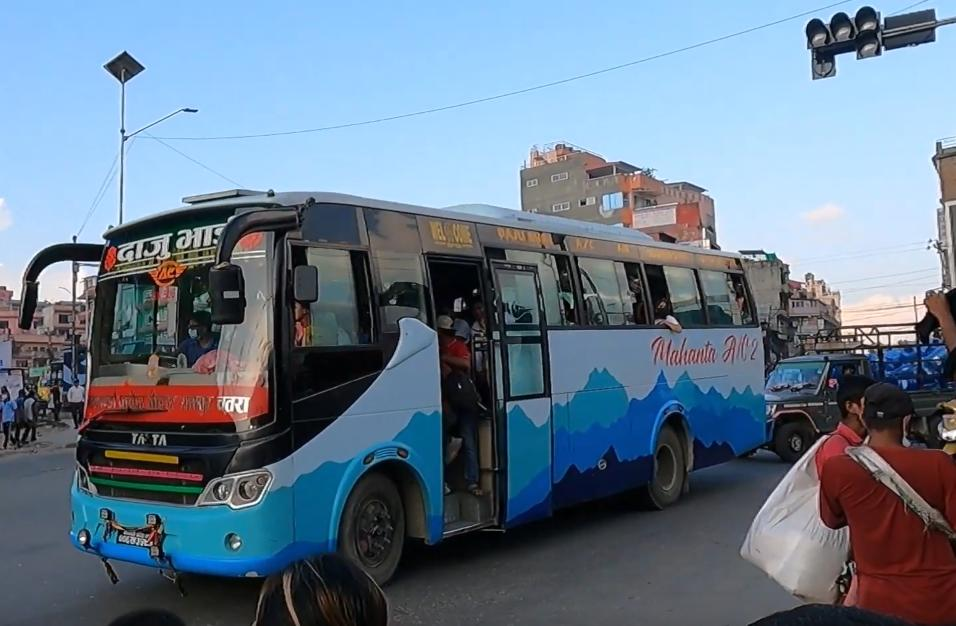bus: (30, 182, 785, 573)
transport_vehicle: (762, 318, 956, 460)
